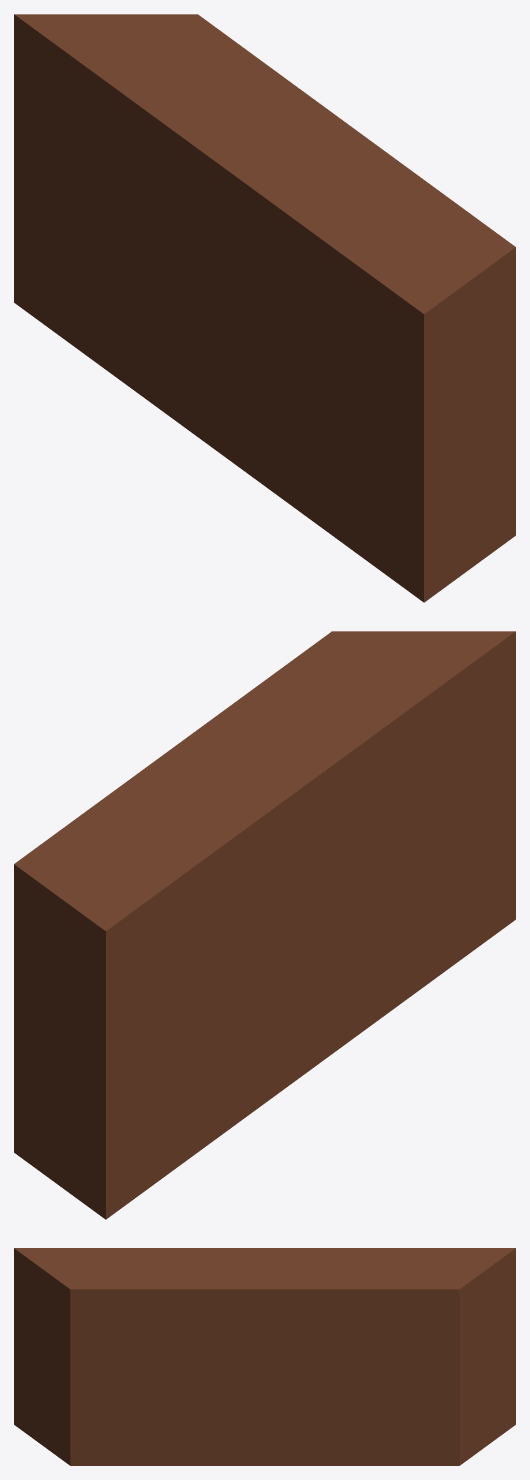
File: _wooden_wall_6.glb
The picture shows the model from 3 angles, top to bottom: view 1: azimuth 30°, elevation 25°; view 2: azimuth 150°, elevation 25°; view 3: azimuth 270°, elevation 25°; orthographic projection. The views are drawn at different scales.
Parts seen in each view (by area): view 1: WoodenWallShort; view 2: WoodenWallShort; view 3: WoodenWallShort.
Part boxes in pixels (box(x1,y1,x2,y2)): WoodenWallShort: box(14, 14, 515, 602); WoodenWallShort: box(14, 631, 515, 1219); WoodenWallShort: box(14, 1248, 515, 1465).
Bounding box in the file's own units: 0.25 × 0.5 × 1.29.
1 material, 1 textured.
